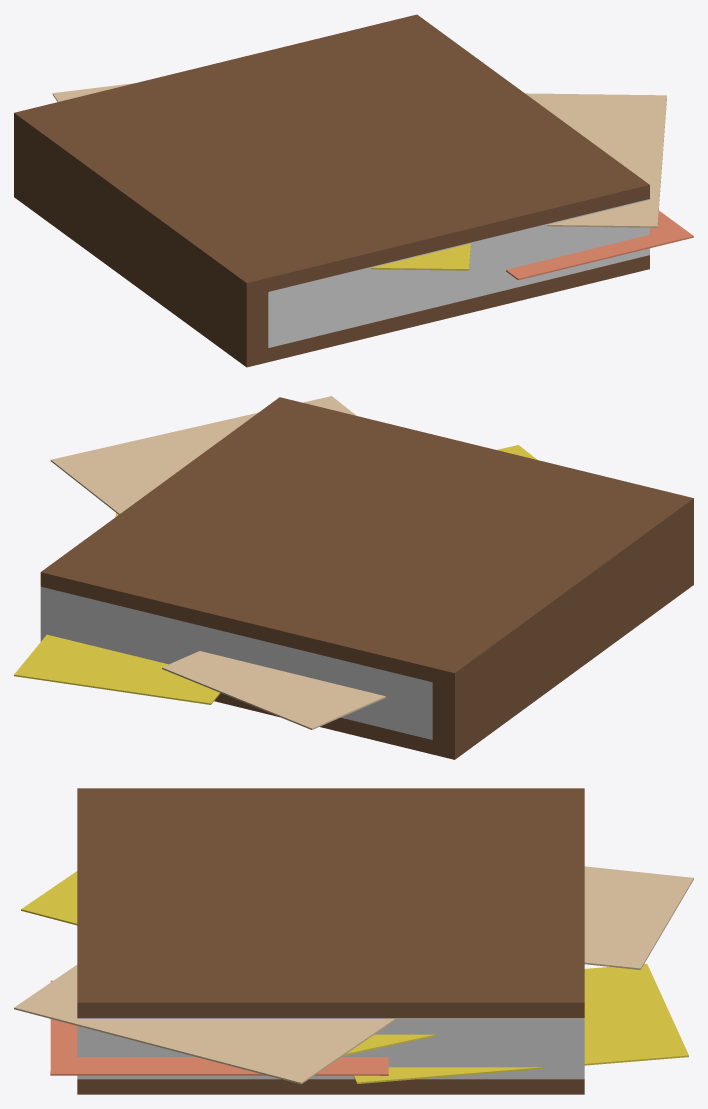
The model's file is Livro bagunçado.fbx.
3 views of the same model, one above another, from view 1: azimuth 30°, elevation 25°; view 2: azimuth 150°, elevation 25°; view 3: azimuth 270°, elevation 25° (orthographic). The views are drawn at different scales.
Parts seen in each view (by area): view 1: Cube, Plane, Plane.004, Plane.001; view 2: Cube, Plane, Plane.005, Plane.003; view 3: Cube, Plane, Plane.003, Plane.005, Plane.004, Plane.001, Plane.002.
Part boxes in pixels (<box>): Cube: <box>14,14,649,367</box>; Plane: <box>525,93,666,227</box>; Plane.004: <box>506,210,693,280</box>; Plane.001: <box>371,243,470,270</box>; Cube: <box>40,397,693,759</box>; Plane: <box>50,396,356,514</box>; Plane.005: <box>162,651,385,729</box>; Plane.003: <box>14,634,220,704</box>; Cube: <box>77,788,584,1094</box>; Plane: <box>14,965,394,1084</box>; Plane.003: <box>353,964,688,1083</box>; Plane.005: <box>584,866,693,969</box>; Plane.004: <box>50,980,388,1075</box>; Plane.001: <box>21,871,77,925</box>; Plane.002: <box>343,1034,435,1055</box>.
Bounding box in the file's own units: 38.94 × 6 × 40.23.
